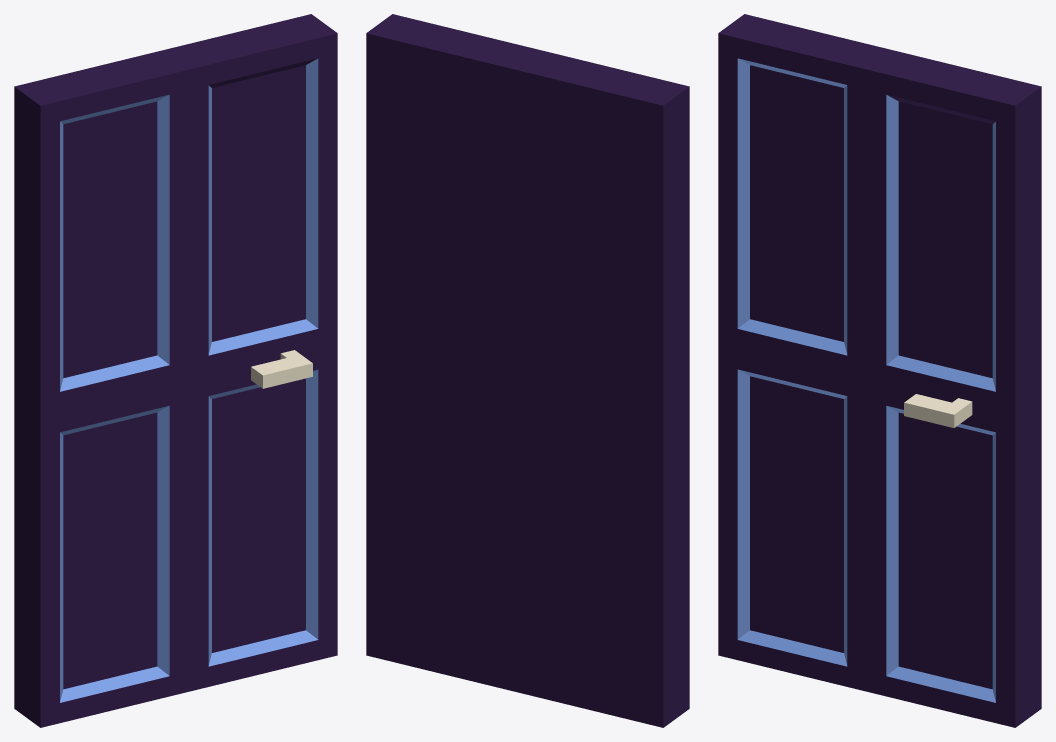
The model's file is deur 1.fbx.
The picture shows the model from 3 angles, left to right: view 1: azimuth 30°, elevation 25°; view 2: azimuth 150°, elevation 25°; view 3: azimuth 330°, elevation 25°; orthographic projection.
Visible parts, largest first — view 1: pCube4; view 2: pCube4; view 3: pCube4.
Boxes of the visible parts, x1,y1,x2,y2 form: pCube4: (14, 14, 337, 727); pCube4: (366, 14, 689, 727); pCube4: (718, 14, 1041, 727).
Bounding box in the file's own units: 1.64 × 3.27 × 0.4247.
Materials: 1 (1 with a texture image).
